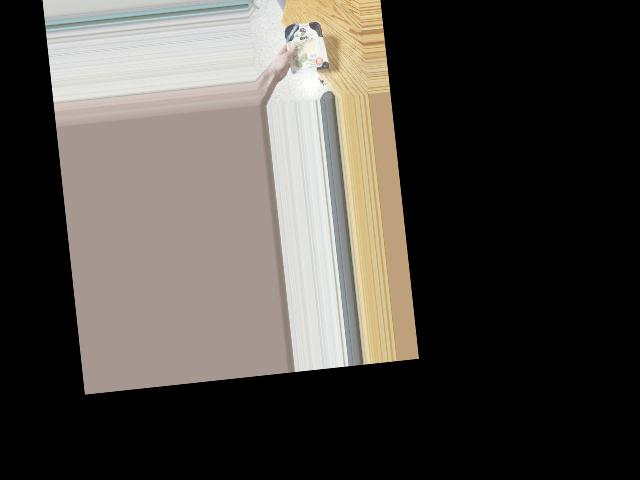cheese: (284, 12, 330, 82)
